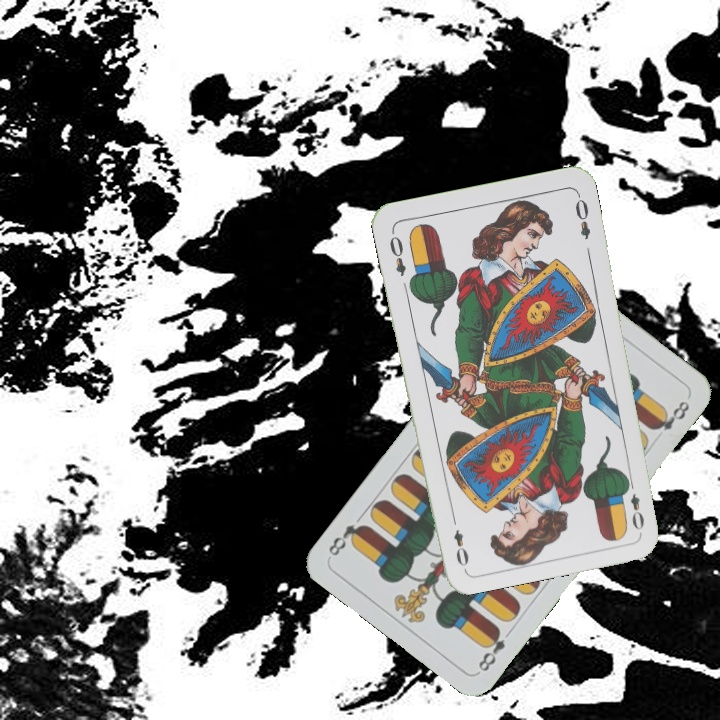E8: (474, 623, 508, 674)
EO: (621, 475, 647, 532), (385, 227, 409, 279)
